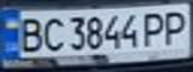3: (63, 14, 87, 52)
4: (118, 10, 145, 48), (103, 11, 124, 50)
8: (84, 12, 106, 51)
B: (12, 15, 48, 53)
C: (36, 15, 66, 53)
P: (157, 7, 193, 46), (139, 9, 172, 47)
